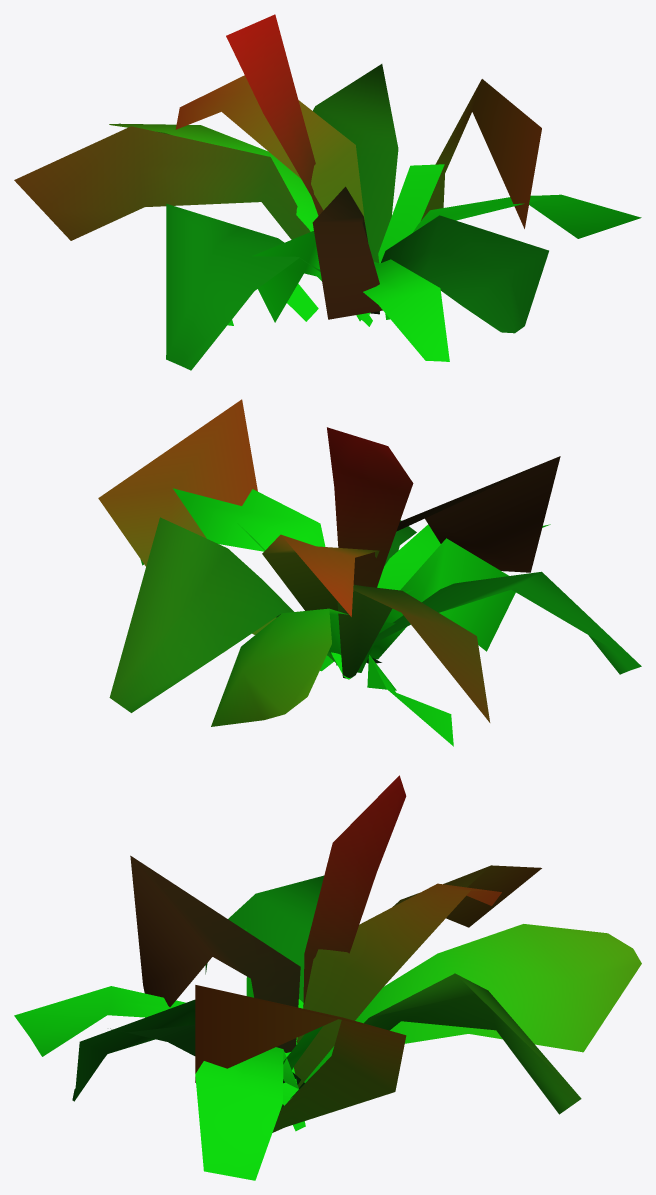
Rendered from Fern_LOD2_Var6_rmAsg.fbx.
3 views of the same model, one above another, from view 1: azimuth 30°, elevation 25°; view 2: azimuth 150°, elevation 25°; view 3: azimuth 270°, elevation 25° (orthographic). The views are drawn at different scales.
Parts seen in each view (by area): view 1: _441d_Var6_LOD2; view 2: _441d_Var6_LOD2; view 3: _441d_Var6_LOD2.
Part boxes in pixels (box(x1,y1,x2,y2)): _441d_Var6_LOD2: box(14, 14, 641, 370); _441d_Var6_LOD2: box(98, 399, 641, 746); _441d_Var6_LOD2: box(14, 775, 641, 1180).
Bounding box in the file's own units: 173 × 95.88 × 179.
